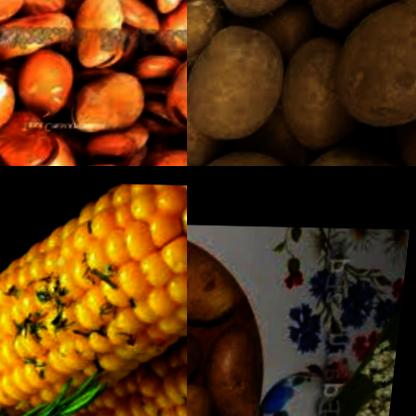beans: (0, 0, 187, 166)
corn: (0, 180, 187, 416), (0, 255, 187, 416)
potato: (187, 16, 297, 146), (278, 13, 373, 158), (328, 0, 416, 136), (205, 324, 285, 416), (187, 246, 256, 325), (297, 0, 416, 36), (187, 73, 230, 166), (187, 0, 236, 81), (293, 140, 416, 166), (187, 328, 211, 412)
